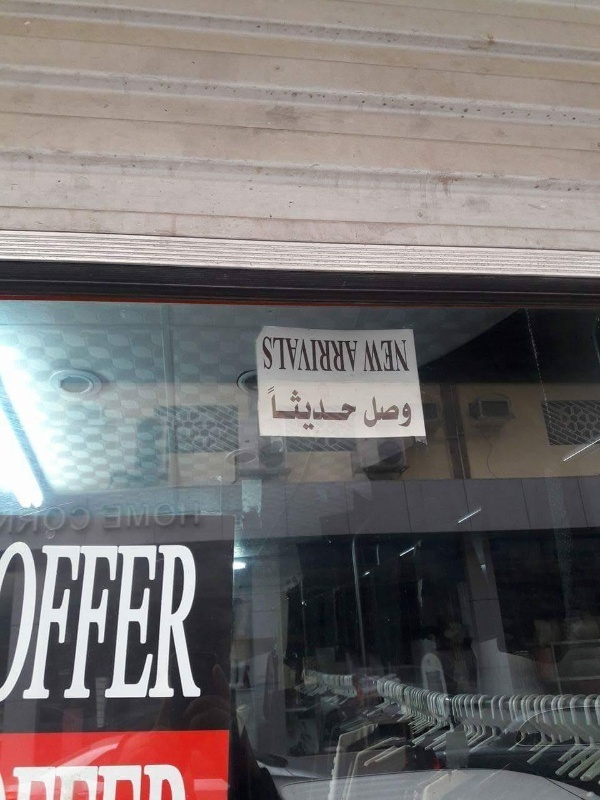text: (1, 541, 16, 707), (17, 541, 32, 707), (33, 541, 48, 707), (49, 541, 64, 707), (65, 541, 80, 707), (81, 541, 96, 707), (97, 541, 112, 707), (113, 541, 128, 707), (129, 541, 144, 707), (145, 541, 160, 707), (161, 541, 176, 707), (177, 541, 192, 707), (193, 541, 205, 707), (273, 386, 288, 430), (289, 386, 304, 430), (305, 386, 320, 430), (321, 386, 336, 430), (337, 386, 352, 430), (17, 497, 32, 538), (33, 497, 48, 538), (49, 497, 64, 538), (65, 497, 80, 538), (273, 336, 288, 373), (289, 336, 304, 373), (305, 336, 320, 373), (321, 336, 336, 373), (337, 336, 352, 373), (113, 495, 128, 532), (129, 495, 144, 532), (145, 495, 160, 532), (161, 495, 176, 532), (177, 495, 192, 532), (193, 495, 208, 532), (369, 339, 384, 374), (385, 339, 400, 374), (369, 395, 384, 430), (385, 395, 400, 430), (401, 395, 414, 430), (261, 336, 272, 373), (101, 495, 112, 532), (81, 497, 90, 538), (401, 339, 411, 374), (266, 386, 272, 430), (353, 336, 359, 373), (353, 386, 358, 430), (364, 339, 368, 374), (365, 395, 368, 430)
